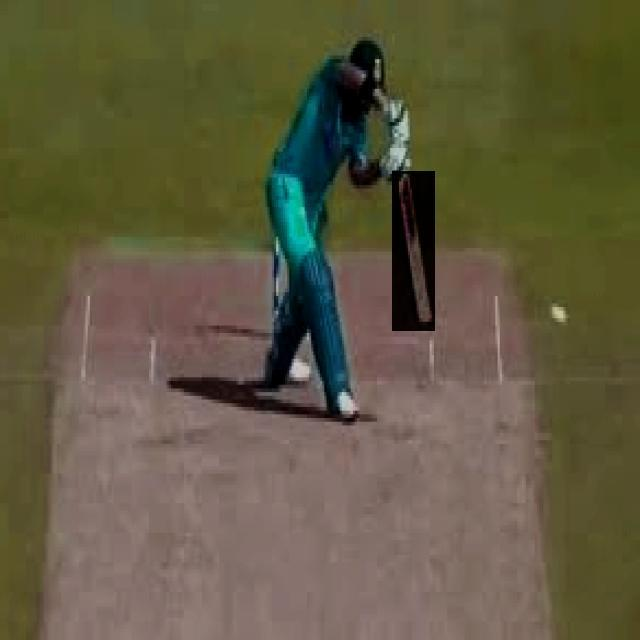bat: (396, 170, 441, 328)
toe: (407, 305, 455, 336)
